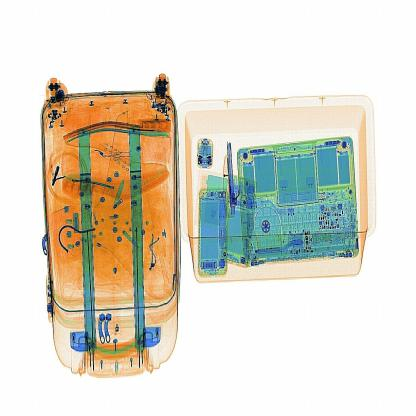pliers: (222, 139, 238, 220)
